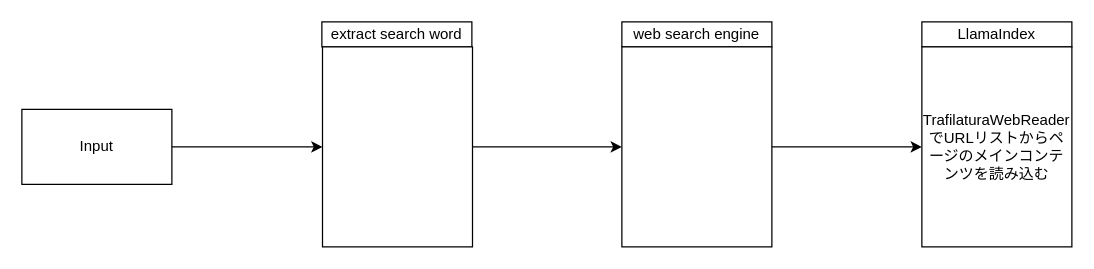
This 1094x269 diagram has some shape labels left out. The centre of each missing label's shape, as x and y in pixels:
キーワードを元に、検索を行い 検索結果のURLリストを取得する: (x=696, y=146)
入力された文章から検索キーワードを抽出する: (x=396, y=146)
